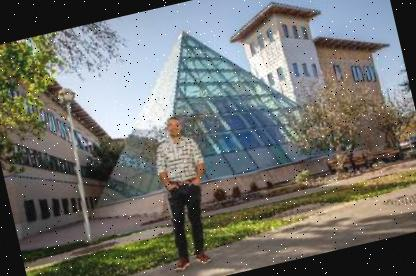person: (134, 106, 228, 276)
